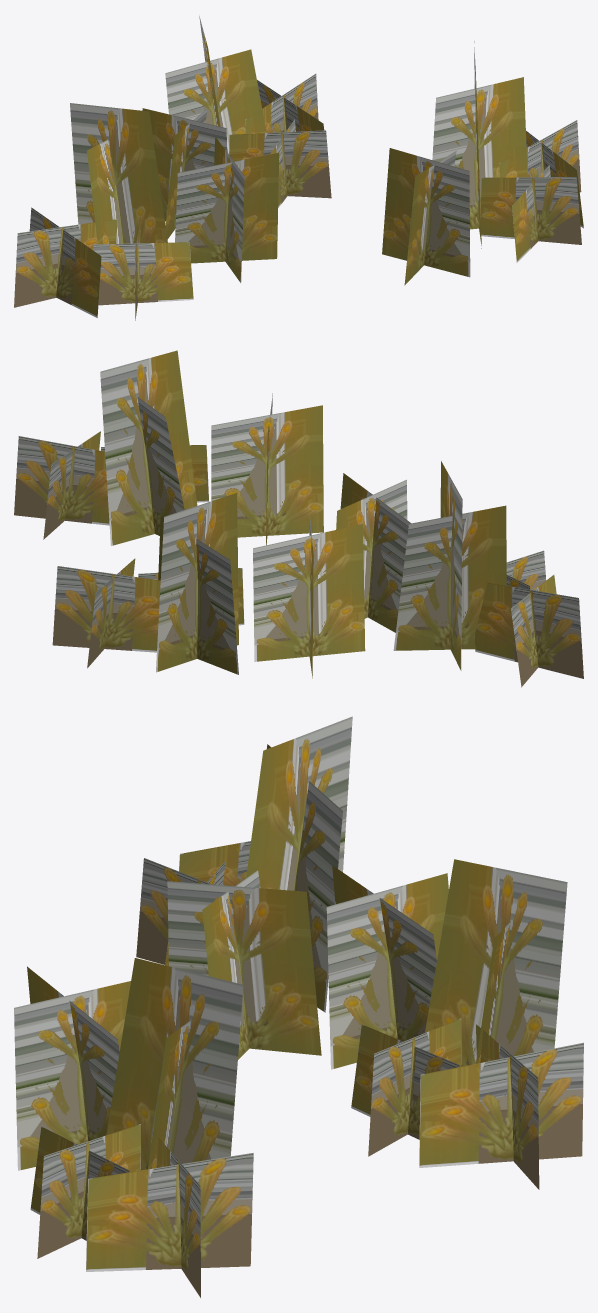
The model's file is Map_08_grass08.FBX.
3 views of the same model, one above another, from view 1: azimuth 30°, elevation 25°; view 2: azimuth 150°, elevation 25°; view 3: azimuth 270°, elevation 25° (orthographic). The views are drawn at different scales.
Parts seen in each view (by area): view 1: Map_08_grass08; view 2: Map_08_grass08; view 3: Map_08_grass08.
Part boxes in pixels (x1,y1,x2,y2): Map_08_grass08: [14, 16, 583, 320]; Map_08_grass08: [14, 350, 583, 687]; Map_08_grass08: [14, 716, 583, 1297].
Bounding box in the file's own units: 91.41 × 26.59 × 55.43.
